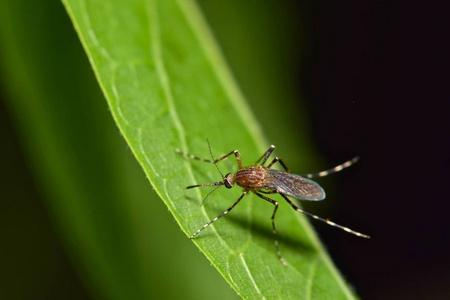Cecidomyiidae: (173, 139, 379, 273)
